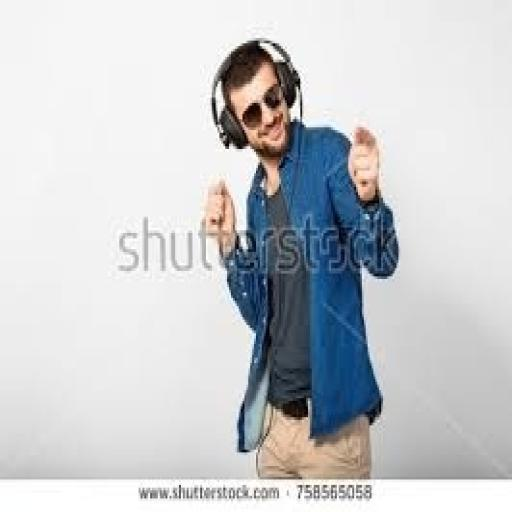listening_to_music: (198, 35, 400, 480), (208, 36, 304, 154)
